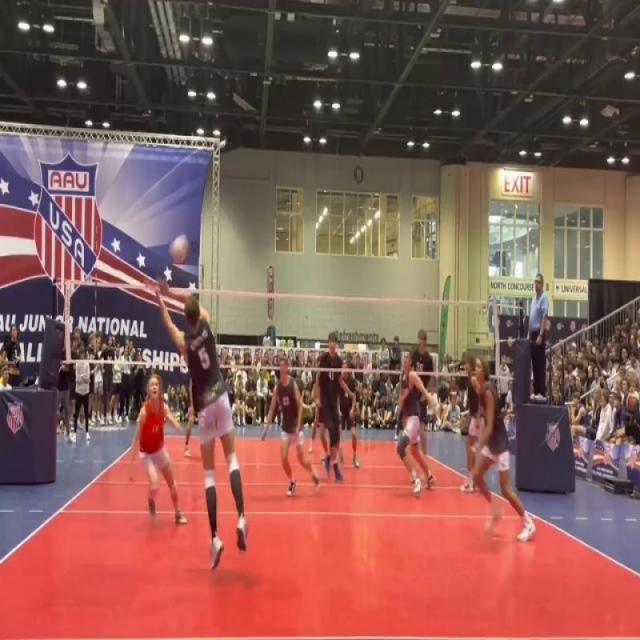volleyball: (167, 232, 191, 266)
